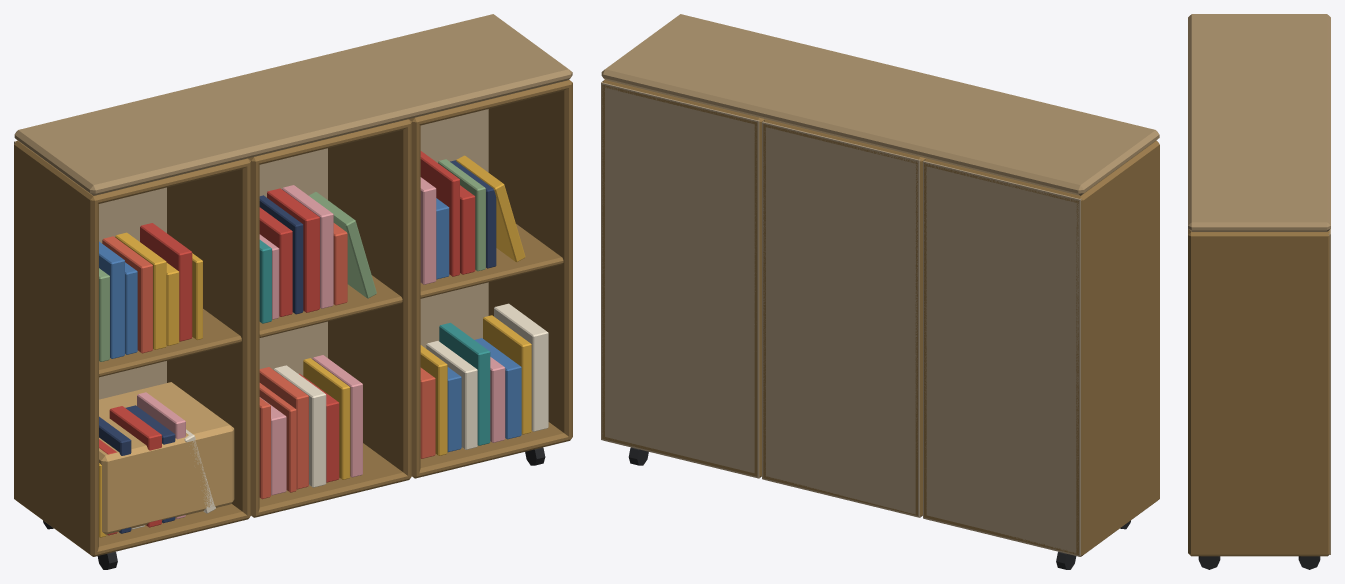
File: rolling_shelf_wide.glb
3 renders of one model, left to right at view 1: azimuth 30°, elevation 25°; view 2: azimuth 150°, elevation 25°; view 3: azimuth 270°, elevation 25°, orthographic. The views are drawn at different scales.
Visible parts, largest first — view 1: rolling_shelf_wide_Body; view 2: rolling_shelf_wide_Body; view 3: rolling_shelf_wide_Body.
Part boxes in pixels (x1,y1,x2,y2): rolling_shelf_wide_Body: (14,14,572,569); rolling_shelf_wide_Body: (601,14,1159,569); rolling_shelf_wide_Body: (1188,14,1330,569).
Size of the model in its own units: 1.4 by 1.1 by 0.4.
